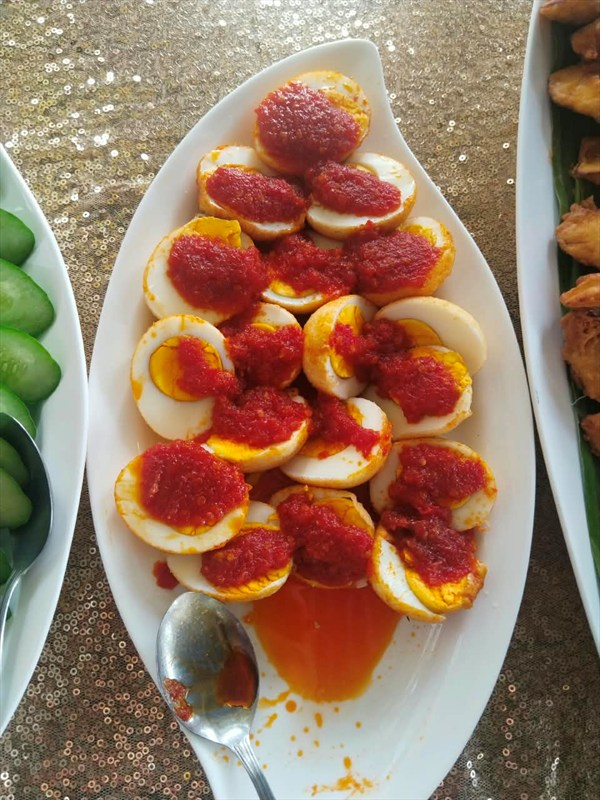Telur Balado: (129, 172, 482, 628)
